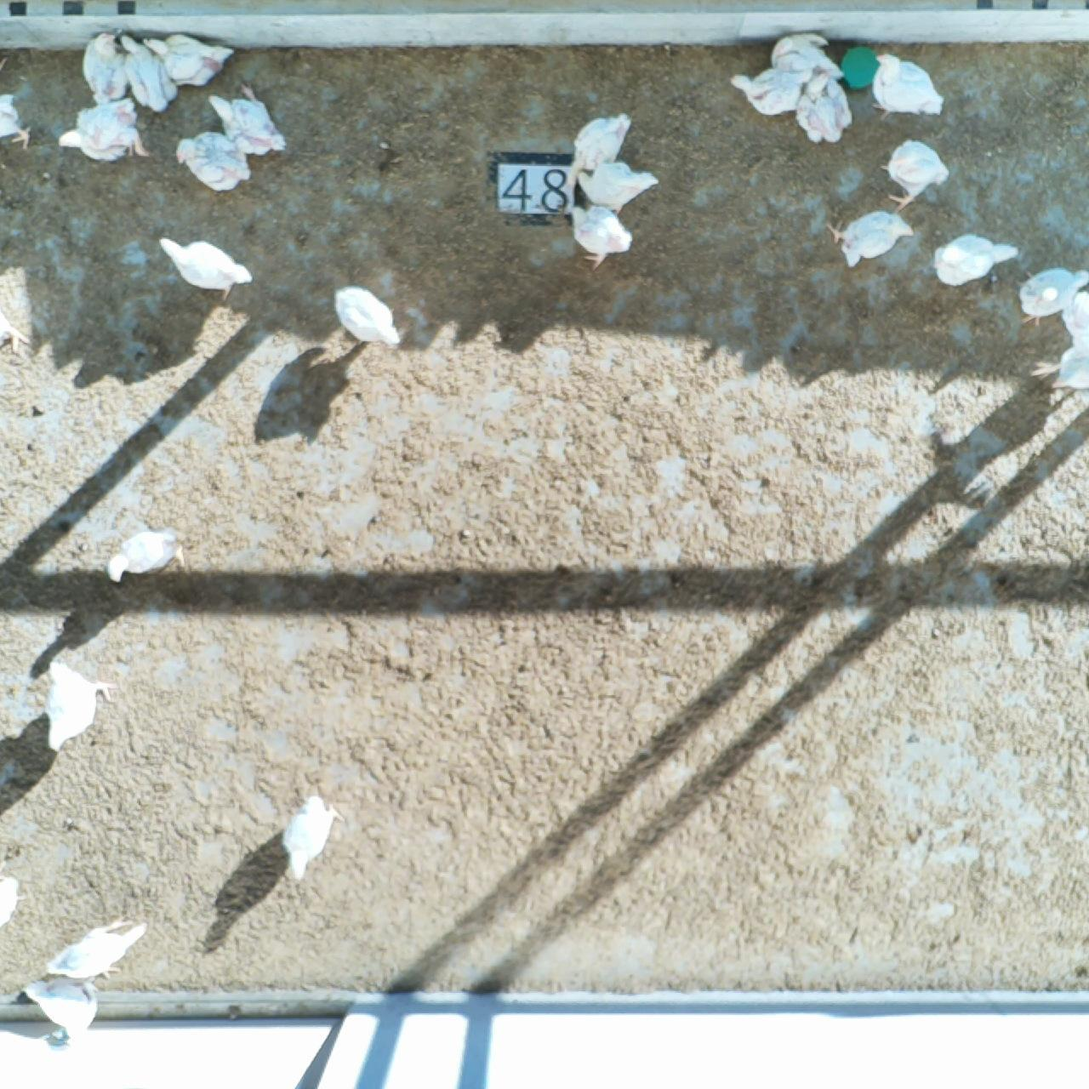chicken: (44, 661, 117, 753), (45, 919, 149, 981), (57, 100, 149, 166), (159, 237, 253, 300), (208, 83, 285, 156), (281, 794, 343, 883), (23, 977, 100, 1048), (146, 28, 232, 88), (564, 112, 628, 191), (121, 30, 179, 117), (830, 210, 913, 270), (872, 51, 946, 117), (933, 234, 1021, 287), (882, 140, 950, 208), (176, 129, 249, 191), (334, 285, 402, 351), (1018, 266, 1089, 328), (567, 204, 631, 271), (108, 530, 187, 584), (579, 162, 659, 215), (794, 74, 852, 145), (730, 66, 806, 117), (81, 32, 132, 108), (770, 31, 841, 85), (1031, 345, 1089, 393), (1, 91, 32, 151), (1061, 289, 1089, 347), (1, 874, 19, 927)
